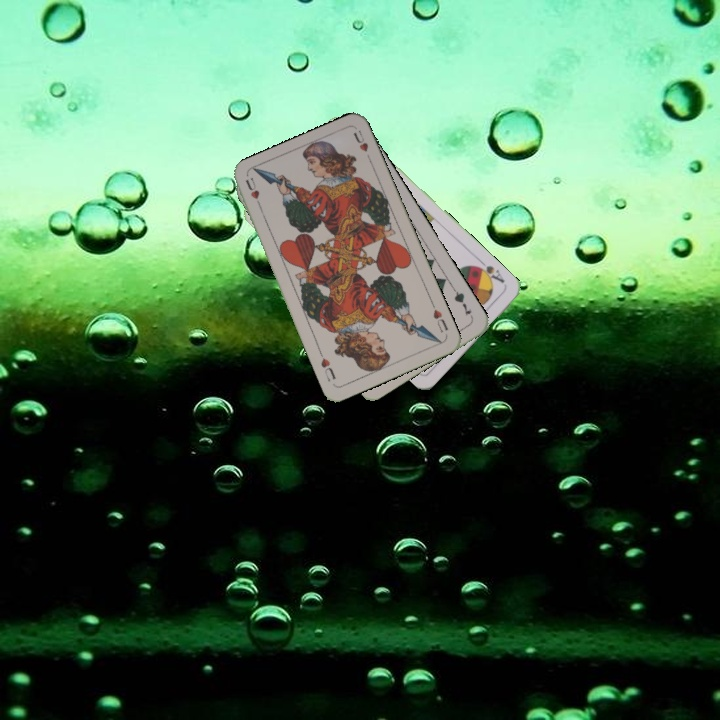G7: (449, 285, 475, 321)
HU: (241, 173, 265, 213), (428, 299, 451, 335)
SA: (471, 256, 507, 286)
